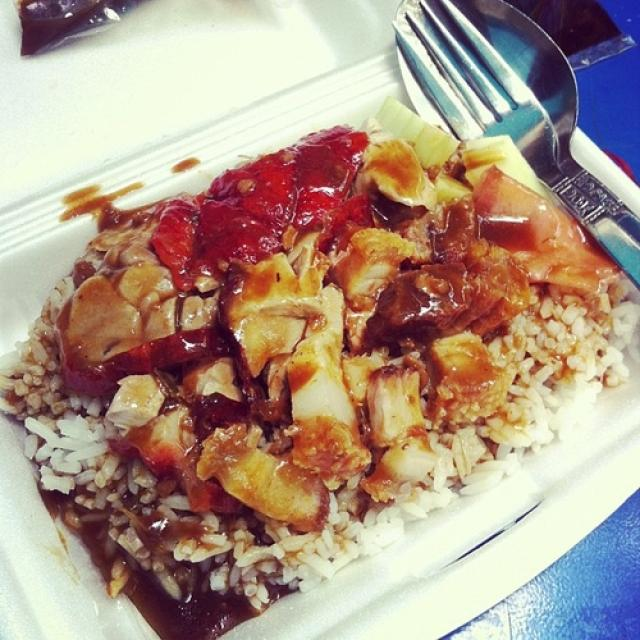猪肉菜式: (41, 64, 616, 602)
